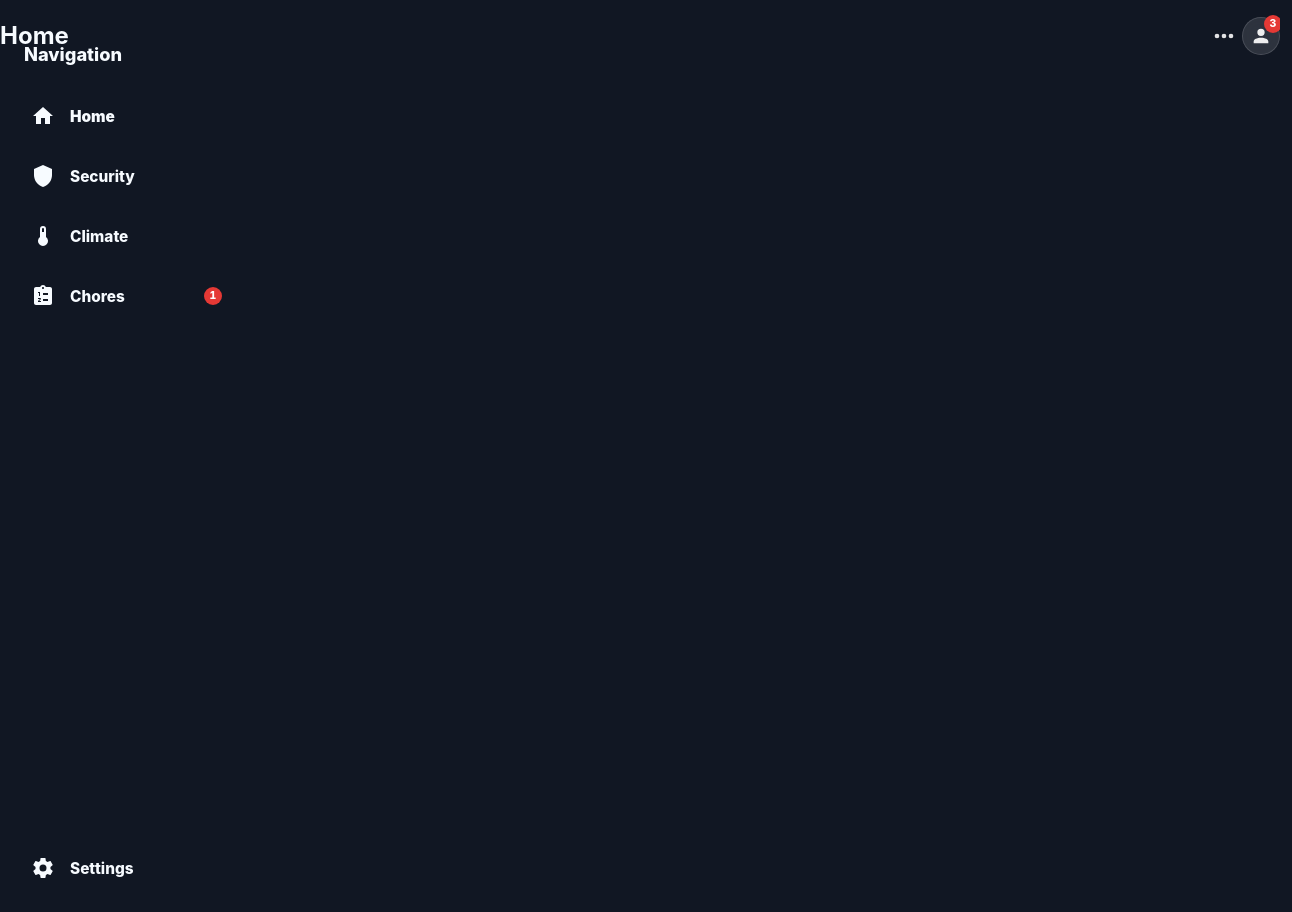
Test: AppHeader adaptive navigation › keeps page actions available while the permanent rail is active
Click the button named "More actions".
click(1224, 36)  # box [1210,14,1238,58]
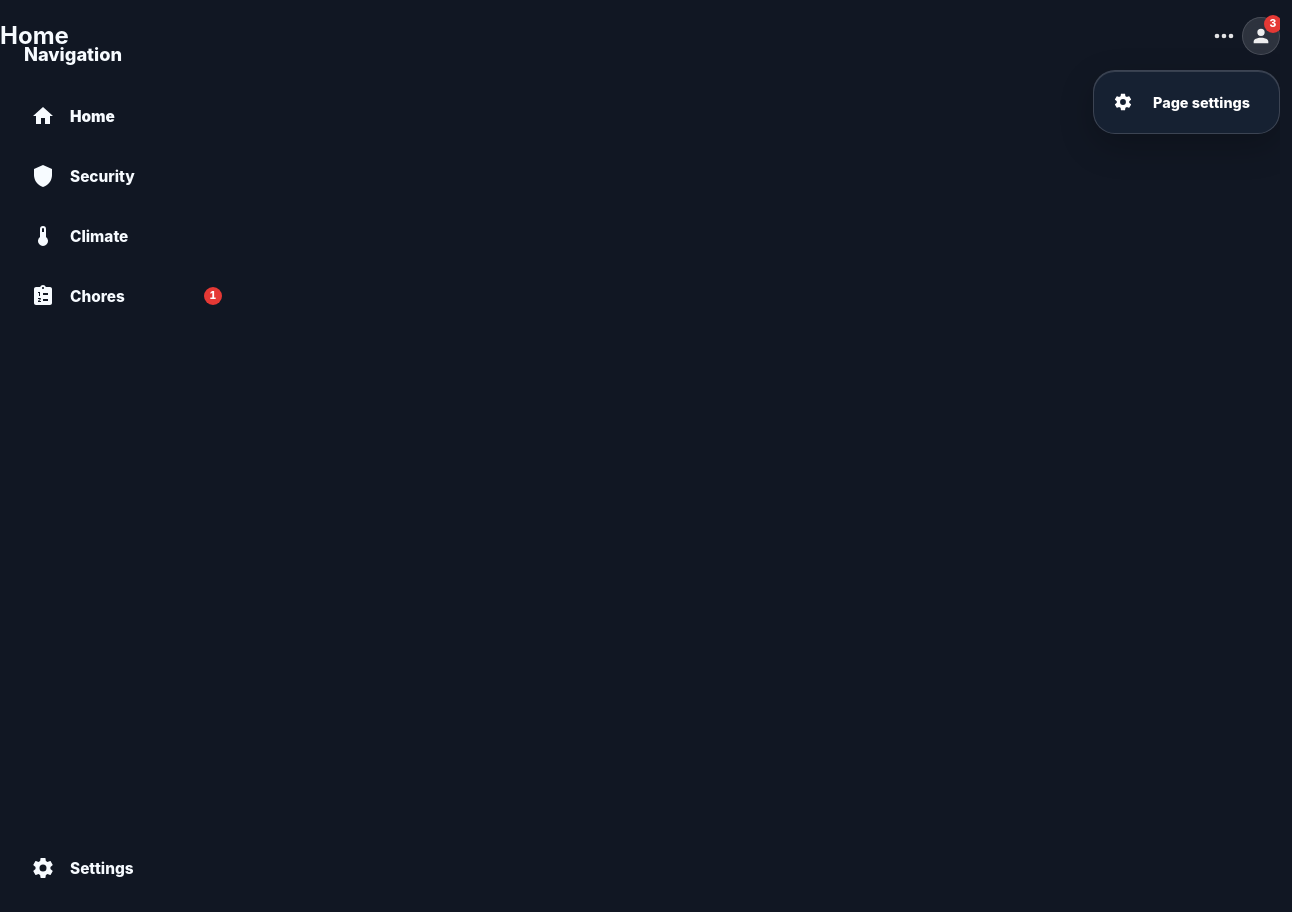
Check: the menu named "Page actions" is shown, box [1093,70,1280,134]
Check: the menu item "Page settings" is shown, box [1102,79,1271,125]
